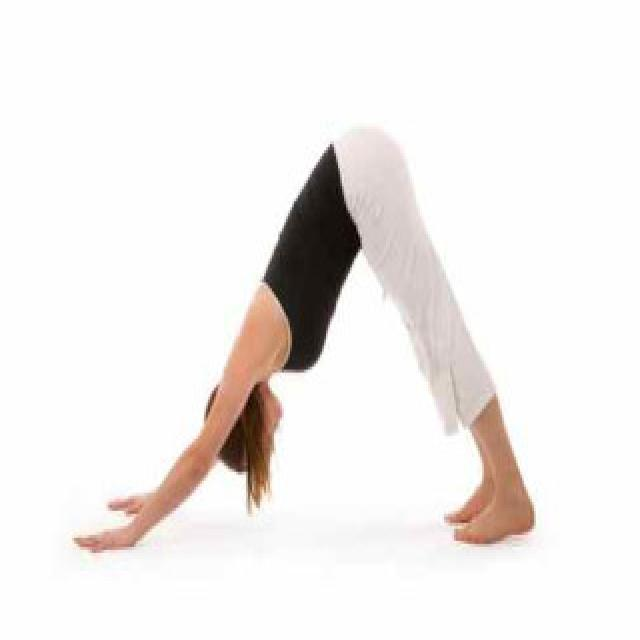yoga-pose downward: (83, 120, 541, 550)
